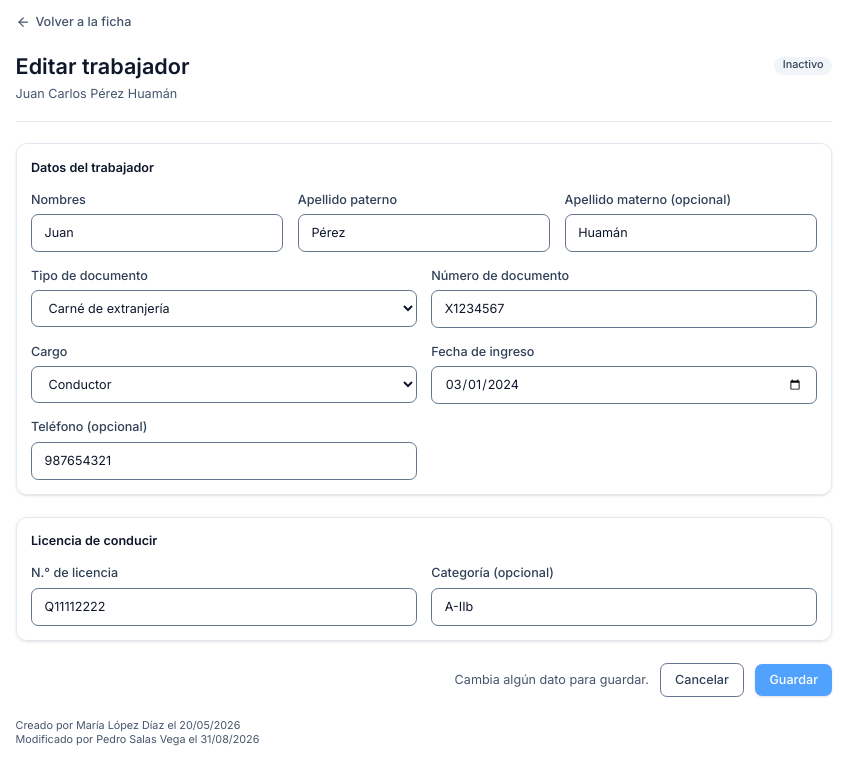
Test: WorkerEditPage › apertura › un inactivo también se edita, y se ve como tal
Expected: the text "Inactivo" is shown, [774,57,832,75]
Step 1. Type "a" into the field labelled "Apellido paterno" → (424, 234), box [298,214,550,252]
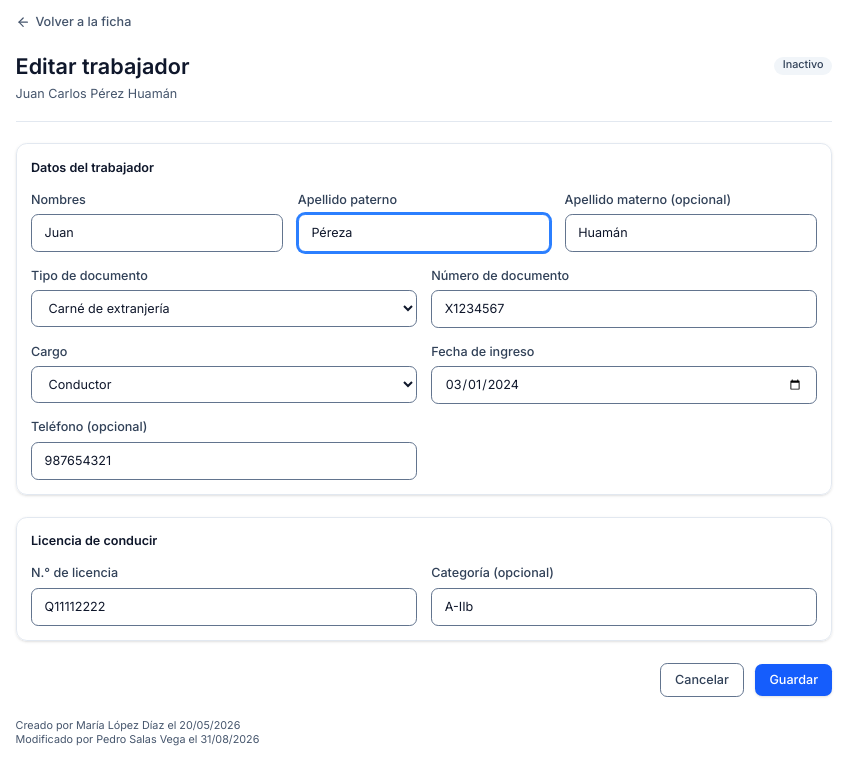
Expected: the button "Guardar" is enabled, [755,664,832,696]
